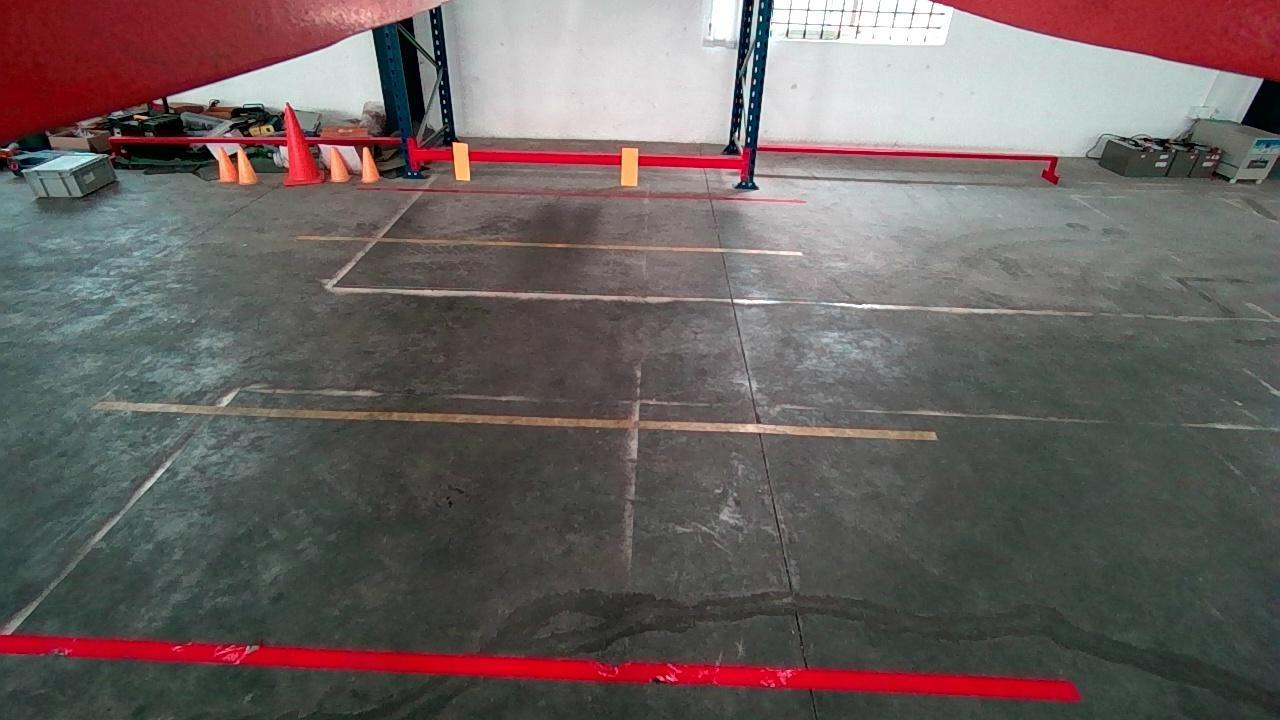h_rack: (419, 147, 744, 168)
orange_strip: (619, 147, 638, 186), (455, 141, 469, 177)
red_line: (1, 631, 1080, 700)
yellow_line: (98, 397, 940, 438)
